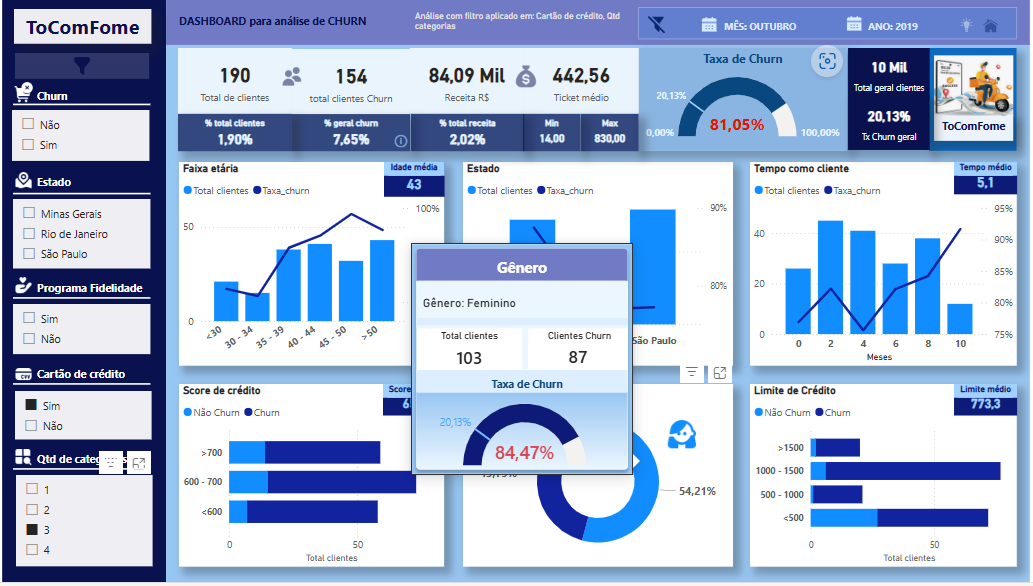

What the dashboard file says about the page in this screenshot:
{"tool":"powerbi","page":{"name":"Página 1","canvas":[1280,720],"ordinal":0},"visuals":[{"type":"shape","box":[201.7,53.8,1078.2,666.2],"z":0},{"type":"shape","box":[0,0,201.7,720],"z":1000},{"type":"card","fields":{"Values":["Medidas.Total_clientes"]},"box":[1050.1,59.9,101.5,63.6],"z":2000},{"type":"slicer","fields":{"Values":["Base.Estado"]},"box":[15.9,246.9,169.9,85.6],"z":3000},{"type":"card","fields":{"Values":["Medidas.total_clientes"]},"box":[221,59.9,140.6,80.7],"z":4000},{"type":"lineClusteredColumnComboChart","title":"Estado","fields":{"Category":["Base.Estado"],"Y2":["Medidas.Taxa_churn"],"Y":["CountNonNull(Base.ClientId)"]},"box":[573.3,202.9,333.7,235.9],"z":5000},{"type":"donutChart","title":"Gênero","fields":{"Y":["CountNonNull(Base.Gênero)"],"Series":["Base.Gênero"]},"box":[574.5,475.5,333.7,226.1],"z":6000},{"type":"slicer","fields":{"Values":["Base.Programa_Fidelidade"]},"box":[15.9,376.5,169.9,62.3],"z":7000},{"type":"slicer","fields":{"Values":["Base.Usa_Cartao_Credito"]},"box":[18.3,484.1,168.7,59.9],"z":8000},{"type":"slicer","fields":{"Values":["Base.Churn 2"]},"box":[15.9,129.6,170,62.4],"z":9000},{"type":"barChart","title":"Limite de Crédito","fields":{"Category":["Faixa_Limite_credito.Limite_credito"],"Y":["Medidas.Total_clientes_nao_churn","Medidas.total_clientes_churn"]},"box":[929,475.5,330.1,226.1],"z":10000},{"type":"barChart","title":"Score de crédito","fields":{"Category":["Faixa_Score_credito.Faixa Score credito"],"Y":["Medidas.Total_clientes_nao_churn","Medidas.total_clientes_churn"]},"box":[222.5,475.5,327.6,226.1],"z":11000},{"type":"lineStackedColumnComboChart","title":"Faixa etária","fields":{"Category":["Faixa_etaria.Faixa etária"],"Y":["CountNonNull(Base.ClientId)"],"Y2":["Medidas.Taxa_churn"]},"box":[222.5,202.9,327.6,235.9],"z":12000},{"type":"gauge","title":"Taxa de Churn","fields":{"Y":["Medidas.Taxa_churn"],"TargetValue":["Medidas.Taxa_geral_churn"]},"box":[790.9,59.9,259.2,127.1],"z":13000},{"type":"lineStackedColumnComboChart","title":"Tempo como cliente","fields":{"Category":["Base.Tempo_Cliente (compartimentos)"],"Y":["CountNonNull(Base.ClientId)"],"Y2":["Medidas.Taxa_churn"]},"box":[929,202.9,330.1,235.9],"z":14000},{"type":"slicer","fields":{"Values":["Base.Qte_Categorias"]},"box":[18.8,588.8,168.8,112.5],"z":15000},{"type":"card","fields":{"Values":["Medidas.total_clientes_churn"]},"box":[362.5,60,146.2,80],"z":16000},{"type":"card","fields":{"Values":["Sum(Base.Sum_Pedidos_Acumulados)"]},"box":[508.5,59.9,140.6,80.7],"z":17000},{"type":"textbox","box":[17.1,12.2,169.9,42.8],"z":18000},{"type":"shape","box":[201.7,0,1078.2,55],"z":19000},{"type":"textbox","box":[40,106,147,34.2],"z":20000},{"type":"textbox","box":[40,212.7,147,34.2],"z":21000},{"type":"textbox","box":[40,343.5,149,34.2],"z":22000},{"type":"textbox","box":[40,449.8,148,34.2],"z":23000},{"type":"textbox","box":[40,555,149.1,34.2],"z":24000},{"type":"shape","box":[15.9,123.5,169.9,13.4],"z":25000},{"type":"shape","box":[15,230,170,21.2],"z":26000},{"type":"shape","box":[17.1,360.6,169.9,17.1],"z":27000},{"type":"shape","box":[15.9,467,169.9,17.1],"z":28000},{"type":"shape","box":[15.9,572.1,169.9,17.1],"z":29000},{"type":"card","fields":{"Values":["Medidas.Taxa_geral_churn"]},"box":[1050.1,118.6,101.5,68.5],"z":30000},{"type":"card","title":"Idade média","fields":{"Values":["Base.Idade_media"]},"box":[475.5,202.9,74.6,40.3],"z":31000},{"type":"shape","box":[1151.5,59.9,107.6,127.1],"z":32000},{"type":"textbox","box":[1156,140.6,98,31.8],"z":33000},{"type":"image","box":[1150.7,47.7,107.6,113.7],"z":34000},{"type":"card","fields":{"Values":["Medidas.Ticket_medio"]},"box":[649.1,59.9,141.8,80.7],"z":35000},{"type":"card","title":"% geral churn","fields":{"Values":["Medidas.%clientes_churn"]},"box":[362.1,140.7,146.4,46.4],"z":36000},{"type":"card","title":"% total clientes","fields":{"Values":["Medidas.%clientes"]},"box":[221.4,140.7,140.7,46.4],"z":37000},{"type":"card","title":"% total receita","fields":{"Values":["Medidas.%receita"]},"box":[508.5,140.6,140.6,46.5],"z":38000},{"type":"card","title":"Min","fields":{"Values":["Medidas.receita_min"]},"box":[648.6,140.7,71.4,46.4],"z":39000},{"type":"card","title":"Max","fields":{"Values":["Medidas.receita_max"]},"box":[720,140.7,71.4,46.4],"z":40000},{"type":"card","title":"Limite médio","fields":{"Values":["Medidas.Limite_medio"]},"box":[1180.8,475.5,78.2,39.1],"z":41000},{"type":"card","title":"Score médio","fields":{"Values":["Medidas.Score_medio"]},"box":[475.5,475.5,74.6,39.1],"z":42000},{"type":"card","title":"Tempo médio","fields":{"Values":["Medidas.tempo_medio"]},"box":[1180.8,200.5,78.2,40.3],"z":43000},{"type":"shape","box":[1051.2,116.2,100,21.2],"z":44000},{"type":"image","box":[10,102.7,33,30],"z":45000},{"type":"image","box":[10,209,36,30],"z":46000},{"type":"image","box":[10,339,36,30],"z":47000},{"type":"image","box":[10,449,36,30],"z":48000},{"type":"image","box":[815.3,514.6,59.9,45.2],"z":49000},{"type":"image","box":[610,515.9,59.9,45.2],"z":50000},{"type":"image","box":[10,552,36,30],"z":51000},{"type":"image","box":[18,98,30.6,24.4],"z":52000},{"type":"image","box":[18.3,66,166.2,31.8],"z":53000},{"type":"textbox","box":[228.6,13.4,568.4,41.6],"z":54000},{"type":"textbox","box":[845.9,18.3,158.9,31.8],"z":55000},{"type":"textbox","box":[1094.1,18.3,160.1,25.7],"z":56000},{"type":"image","box":[788.5,9.8,55,34.2],"z":57000},{"type":"image","box":[1039,9.8,55,34.2],"z":58000},{"type":"shape","box":[791.2,7.3,468.3,40.4],"z":59000},{"type":"image","box":[343.5,78.2,36.7,33],"z":60000},{"type":"image","box":[633.2,73.3,36.7,42.8],"z":61000}]}

Visuals, with their boxes in screenshot pixels (x1, y1, x2, y2), scaled from the page's 1280x720 canvas onto the 1033x586 screenshot:
shape: bbox(163, 44, 1032, 585)
shape: bbox(0, 0, 163, 585)
card - Medidas.Total_clientes: bbox(847, 49, 929, 101)
slicer - Base.Estado: bbox(13, 201, 150, 271)
card - Medidas.total_clientes: bbox(178, 49, 292, 114)
"Estado" lineClusteredColumnComboChart: bbox(463, 165, 732, 357)
"Gênero" donutChart: bbox(464, 387, 733, 571)
slicer - Base.Programa_Fidelidade: bbox(13, 306, 150, 357)
slicer - Base.Usa_Cartao_Credito: bbox(15, 394, 151, 443)
slicer - Base.Churn 2: bbox(13, 105, 150, 156)
"Limite de Crédito" barChart: bbox(750, 387, 1016, 571)
"Score de crédito" barChart: bbox(180, 387, 444, 571)
"Faixa etária" lineStackedColumnComboChart: bbox(180, 165, 444, 357)
"Taxa de Churn" gauge: bbox(638, 49, 847, 152)
"Tempo como cliente" lineStackedColumnComboChart: bbox(750, 165, 1016, 357)
slicer - Base.Qte_Categorias: bbox(15, 479, 151, 571)
card - Medidas.total_clientes_churn: bbox(293, 49, 411, 114)
card - Sum(Base.Sum_Pedidos_Acumulados): bbox(410, 49, 524, 114)
textbox: bbox(14, 10, 151, 45)
shape: bbox(163, 0, 1032, 45)
textbox: bbox(32, 86, 151, 114)
textbox: bbox(32, 173, 151, 201)
textbox: bbox(32, 280, 153, 307)
textbox: bbox(32, 366, 152, 394)
textbox: bbox(32, 452, 153, 480)
shape: bbox(13, 101, 150, 111)
shape: bbox(12, 187, 149, 204)
shape: bbox(14, 293, 151, 307)
shape: bbox(13, 380, 150, 394)
shape: bbox(13, 466, 150, 480)
card - Medidas.Taxa_geral_churn: bbox(847, 97, 929, 152)
"Idade média" card: bbox(384, 165, 444, 198)
shape: bbox(929, 49, 1016, 152)
textbox: bbox(933, 114, 1012, 140)
image: bbox(929, 39, 1015, 131)
card - Medidas.Ticket_medio: bbox(524, 49, 638, 114)
"% geral churn" card: bbox(292, 115, 410, 152)
"% total clientes" card: bbox(179, 115, 292, 152)
"% total receita" card: bbox(410, 114, 524, 152)
"Min" card: bbox(523, 115, 581, 152)
"Max" card: bbox(581, 115, 639, 152)
"Limite médio" card: bbox(953, 387, 1016, 419)
"Score médio" card: bbox(384, 387, 444, 419)
"Tempo médio" card: bbox(953, 163, 1016, 196)
shape: bbox(848, 95, 929, 112)
image: bbox(8, 84, 35, 108)
image: bbox(8, 170, 37, 195)
image: bbox(8, 276, 37, 300)
image: bbox(8, 365, 37, 390)
image: bbox(658, 419, 706, 456)
image: bbox(492, 420, 541, 457)
image: bbox(8, 449, 37, 474)
image: bbox(15, 80, 39, 100)
image: bbox(15, 54, 149, 80)
textbox: bbox(184, 11, 643, 45)
textbox: bbox(683, 15, 811, 41)
textbox: bbox(883, 15, 1012, 36)
image: bbox(636, 8, 681, 36)
image: bbox(839, 8, 883, 36)
shape: bbox(639, 6, 1016, 39)
image: bbox(277, 64, 307, 91)
image: bbox(511, 60, 541, 94)
